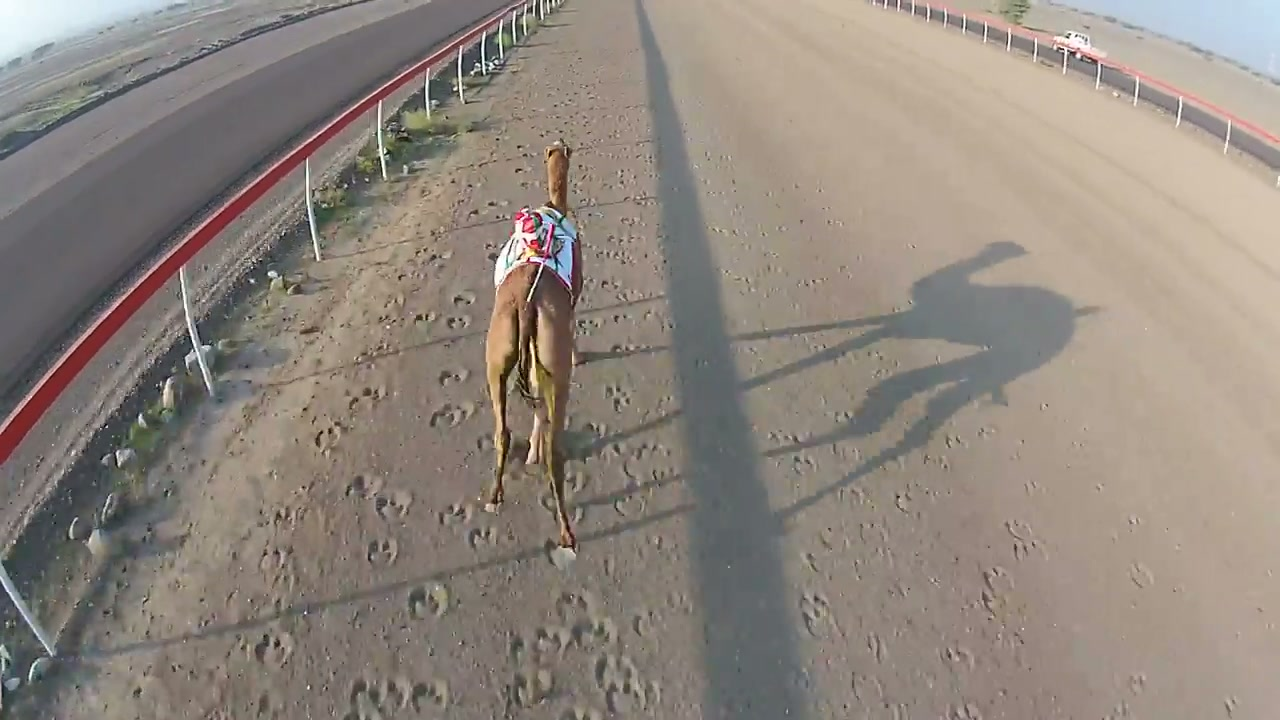animal_footprint: (343, 678, 449, 719), (593, 653, 659, 714), (800, 592, 842, 638), (508, 668, 554, 707), (248, 632, 293, 667), (408, 584, 449, 619), (428, 402, 476, 428), (372, 489, 412, 520), (313, 421, 345, 455), (348, 385, 388, 411), (366, 539, 398, 566), (439, 504, 474, 526), (603, 384, 630, 412), (467, 527, 496, 549), (437, 368, 470, 386), (453, 290, 476, 307), (445, 314, 471, 329)
